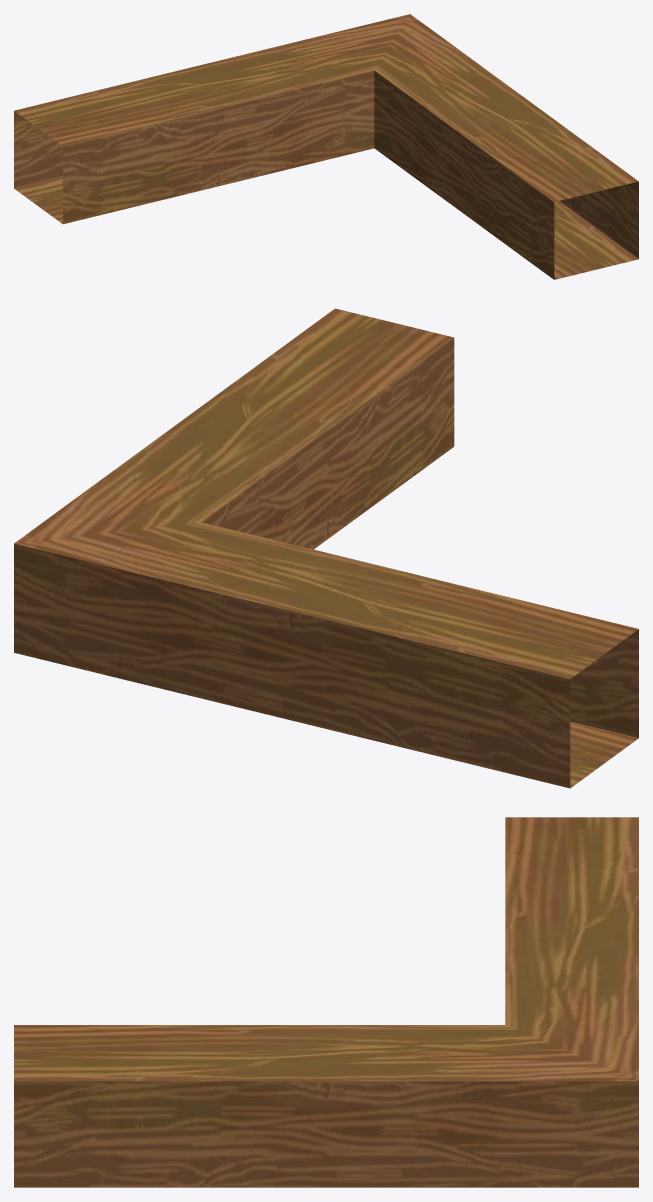
File: holecover_90half.glb
3 renders of one model, top to bottom at view 1: azimuth 30°, elevation 25°; view 2: azimuth 150°, elevation 25°; view 3: azimuth 270°, elevation 25°, orthographic. The views are drawn at different scales.
Size of the model in its own units: 1.12 by 0.2102 by 1.12.
1 material, 1 textured.
